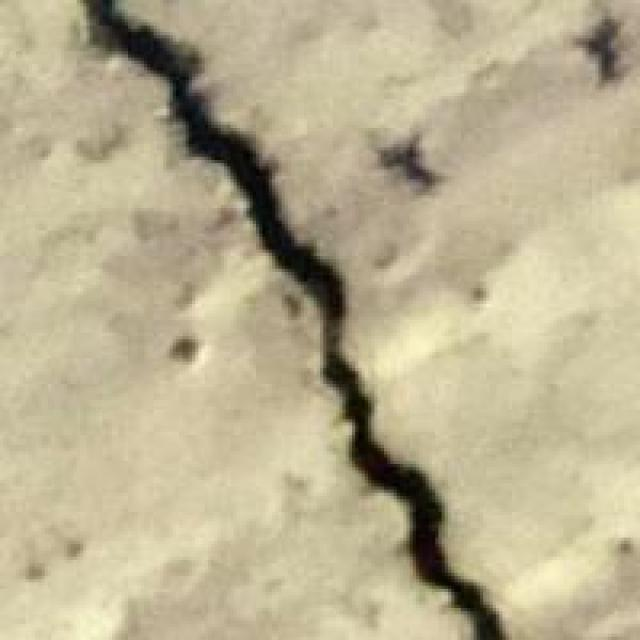crack: (86, 3, 518, 637)
